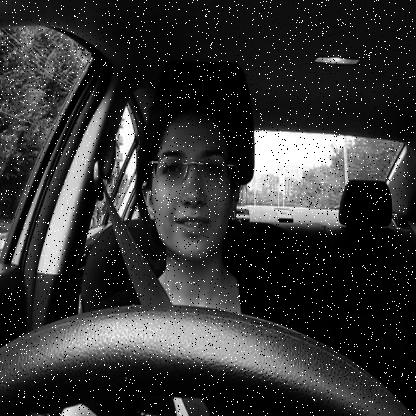seatbelt: (80, 53, 252, 416)
